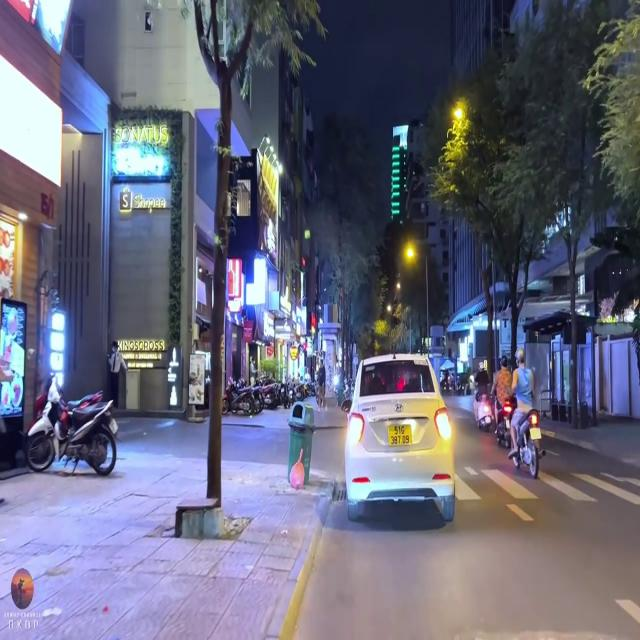bien_vang: (385, 424, 413, 448)
